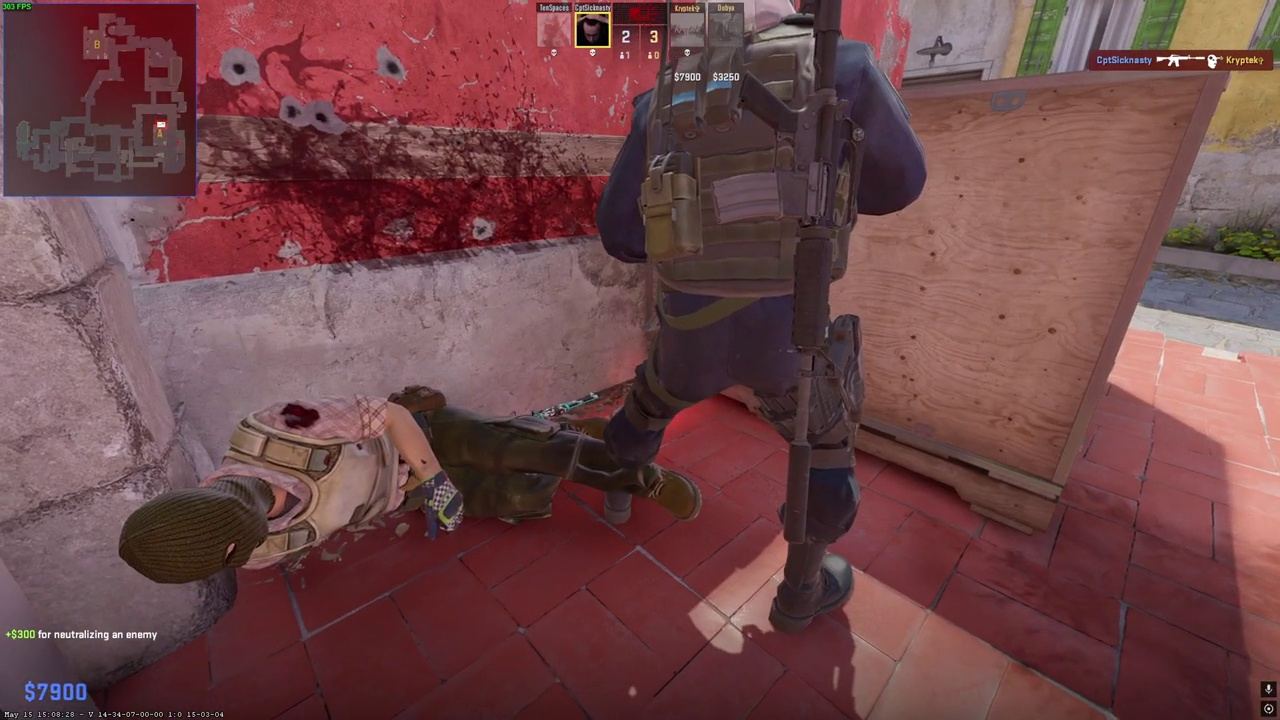CT: (595, 1, 907, 635)
